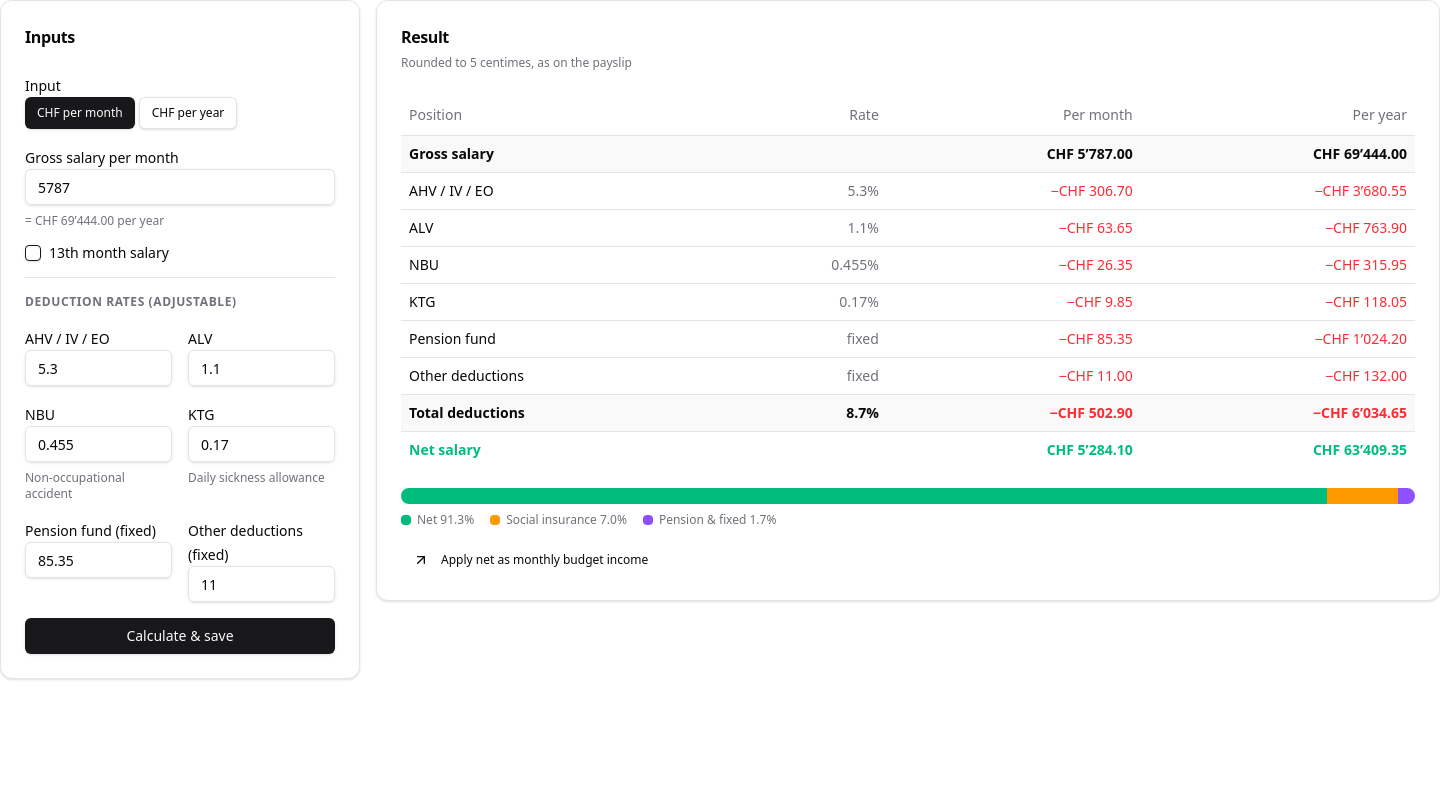
Test: SalaryTab › leaves the counterpart untouched when switching modes with an empty gross field
Clear the number field labelled "Gross salary per month" at [180, 187], box x1=25 y1=169 x2=335 y2=205
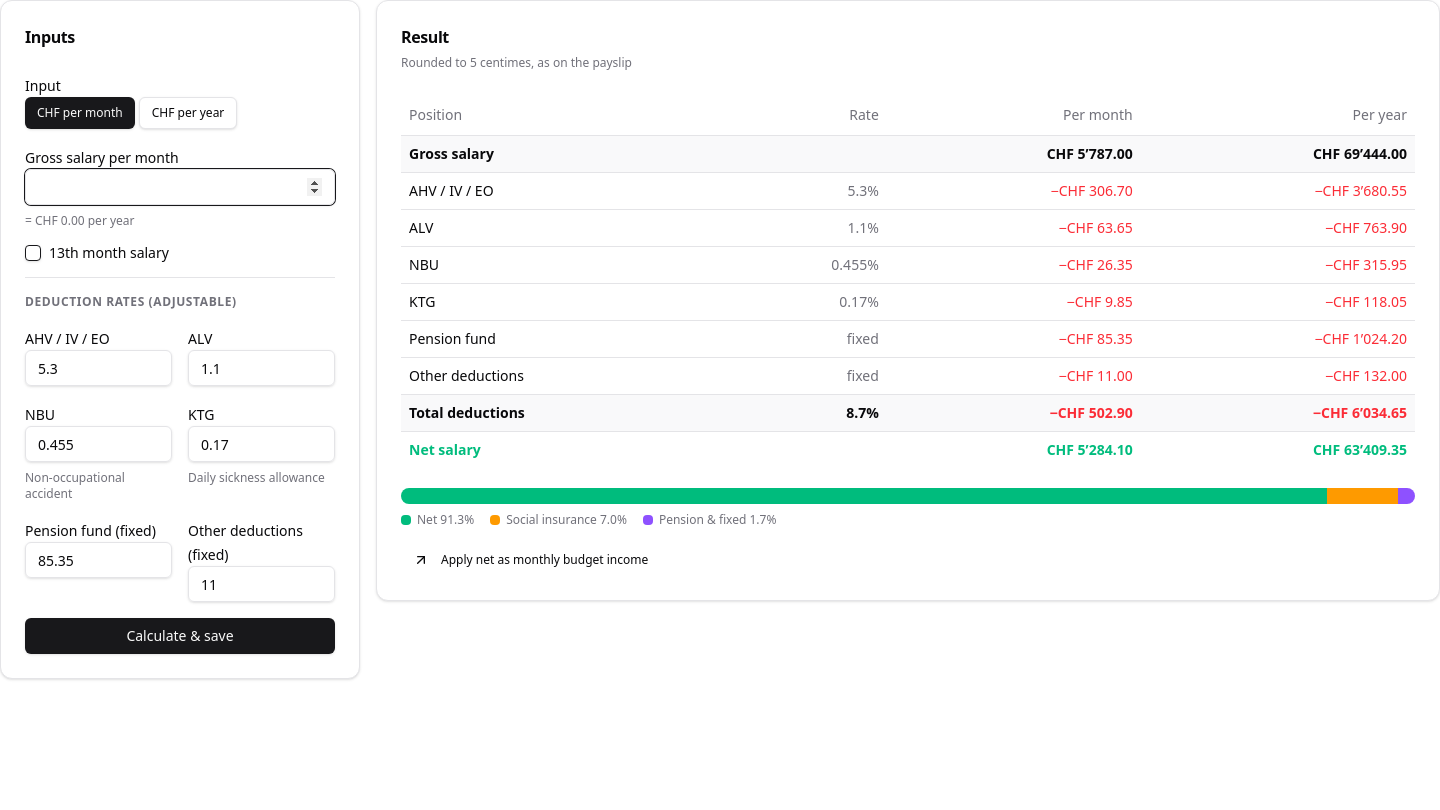
Click the button "CHF per year" at [188, 113], box x1=139 y1=97 x2=237 y2=129
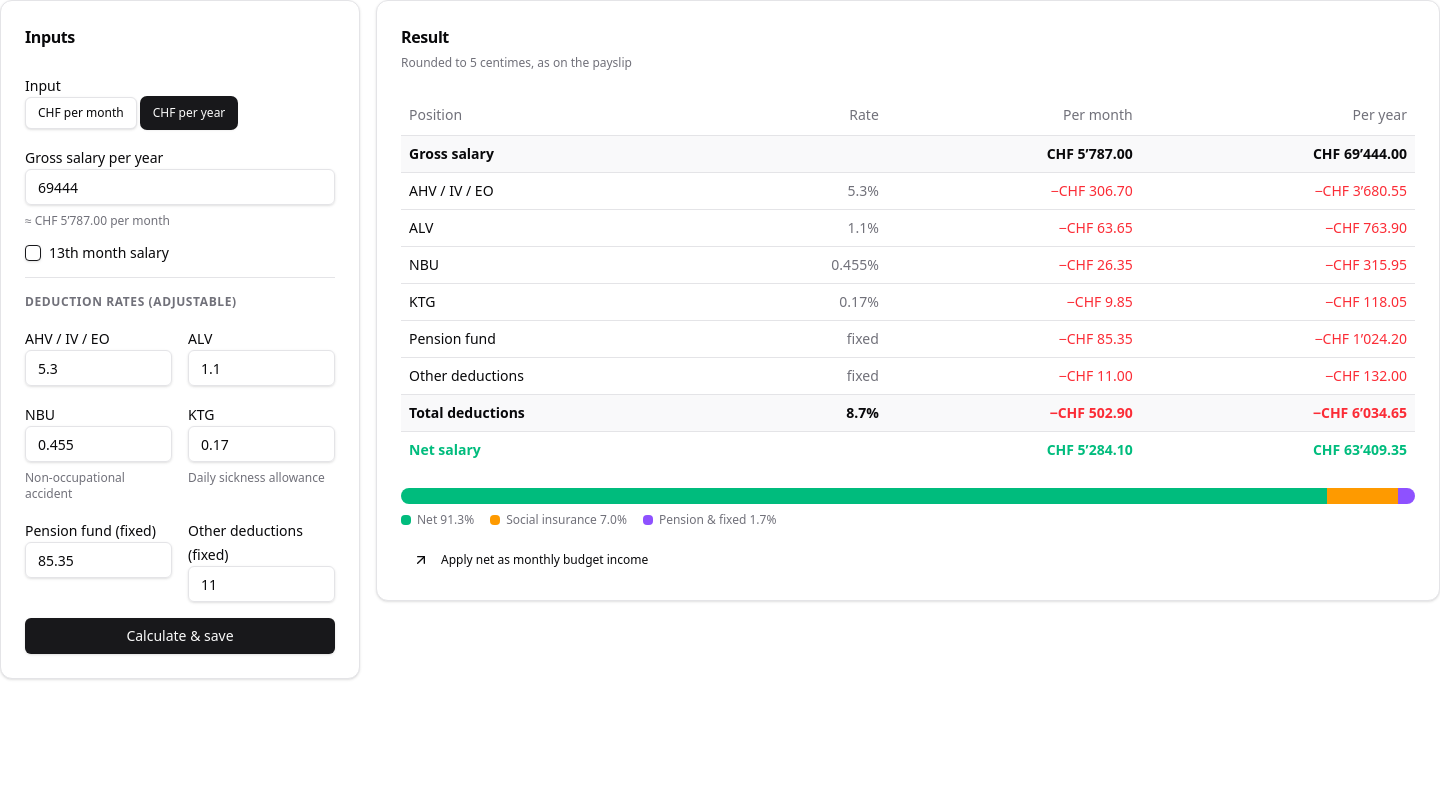
Check: the number field labelled "Gross salary per year" holds "69444", box x1=25 y1=169 x2=335 y2=205
